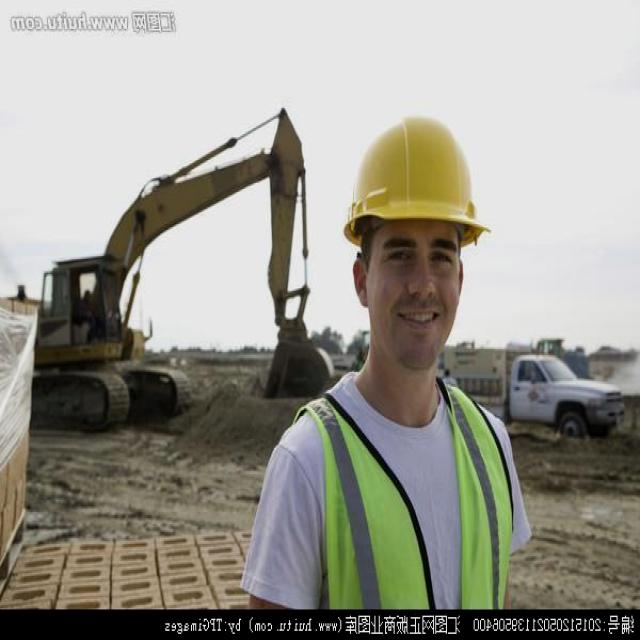face_nomask: (358, 218, 463, 379)
head_helmet: (342, 113, 484, 230)
person: (256, 96, 532, 614)
vest: (311, 363, 528, 608)
